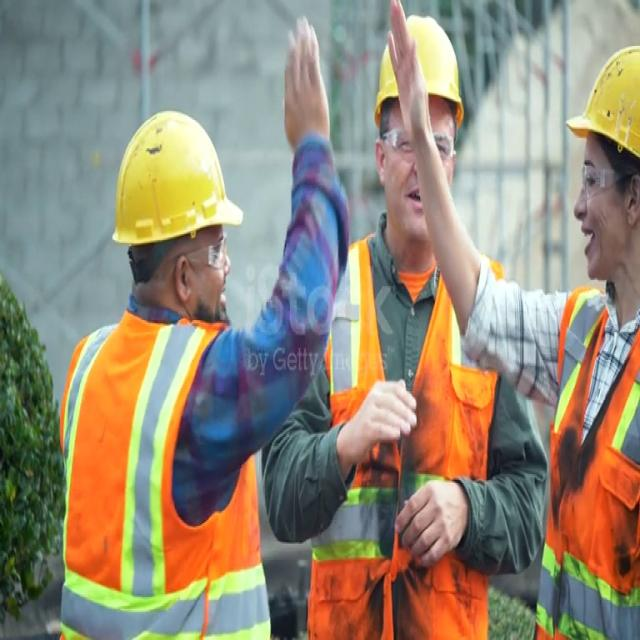capacete: (104, 104, 248, 245), (361, 8, 481, 132), (553, 38, 640, 176)
